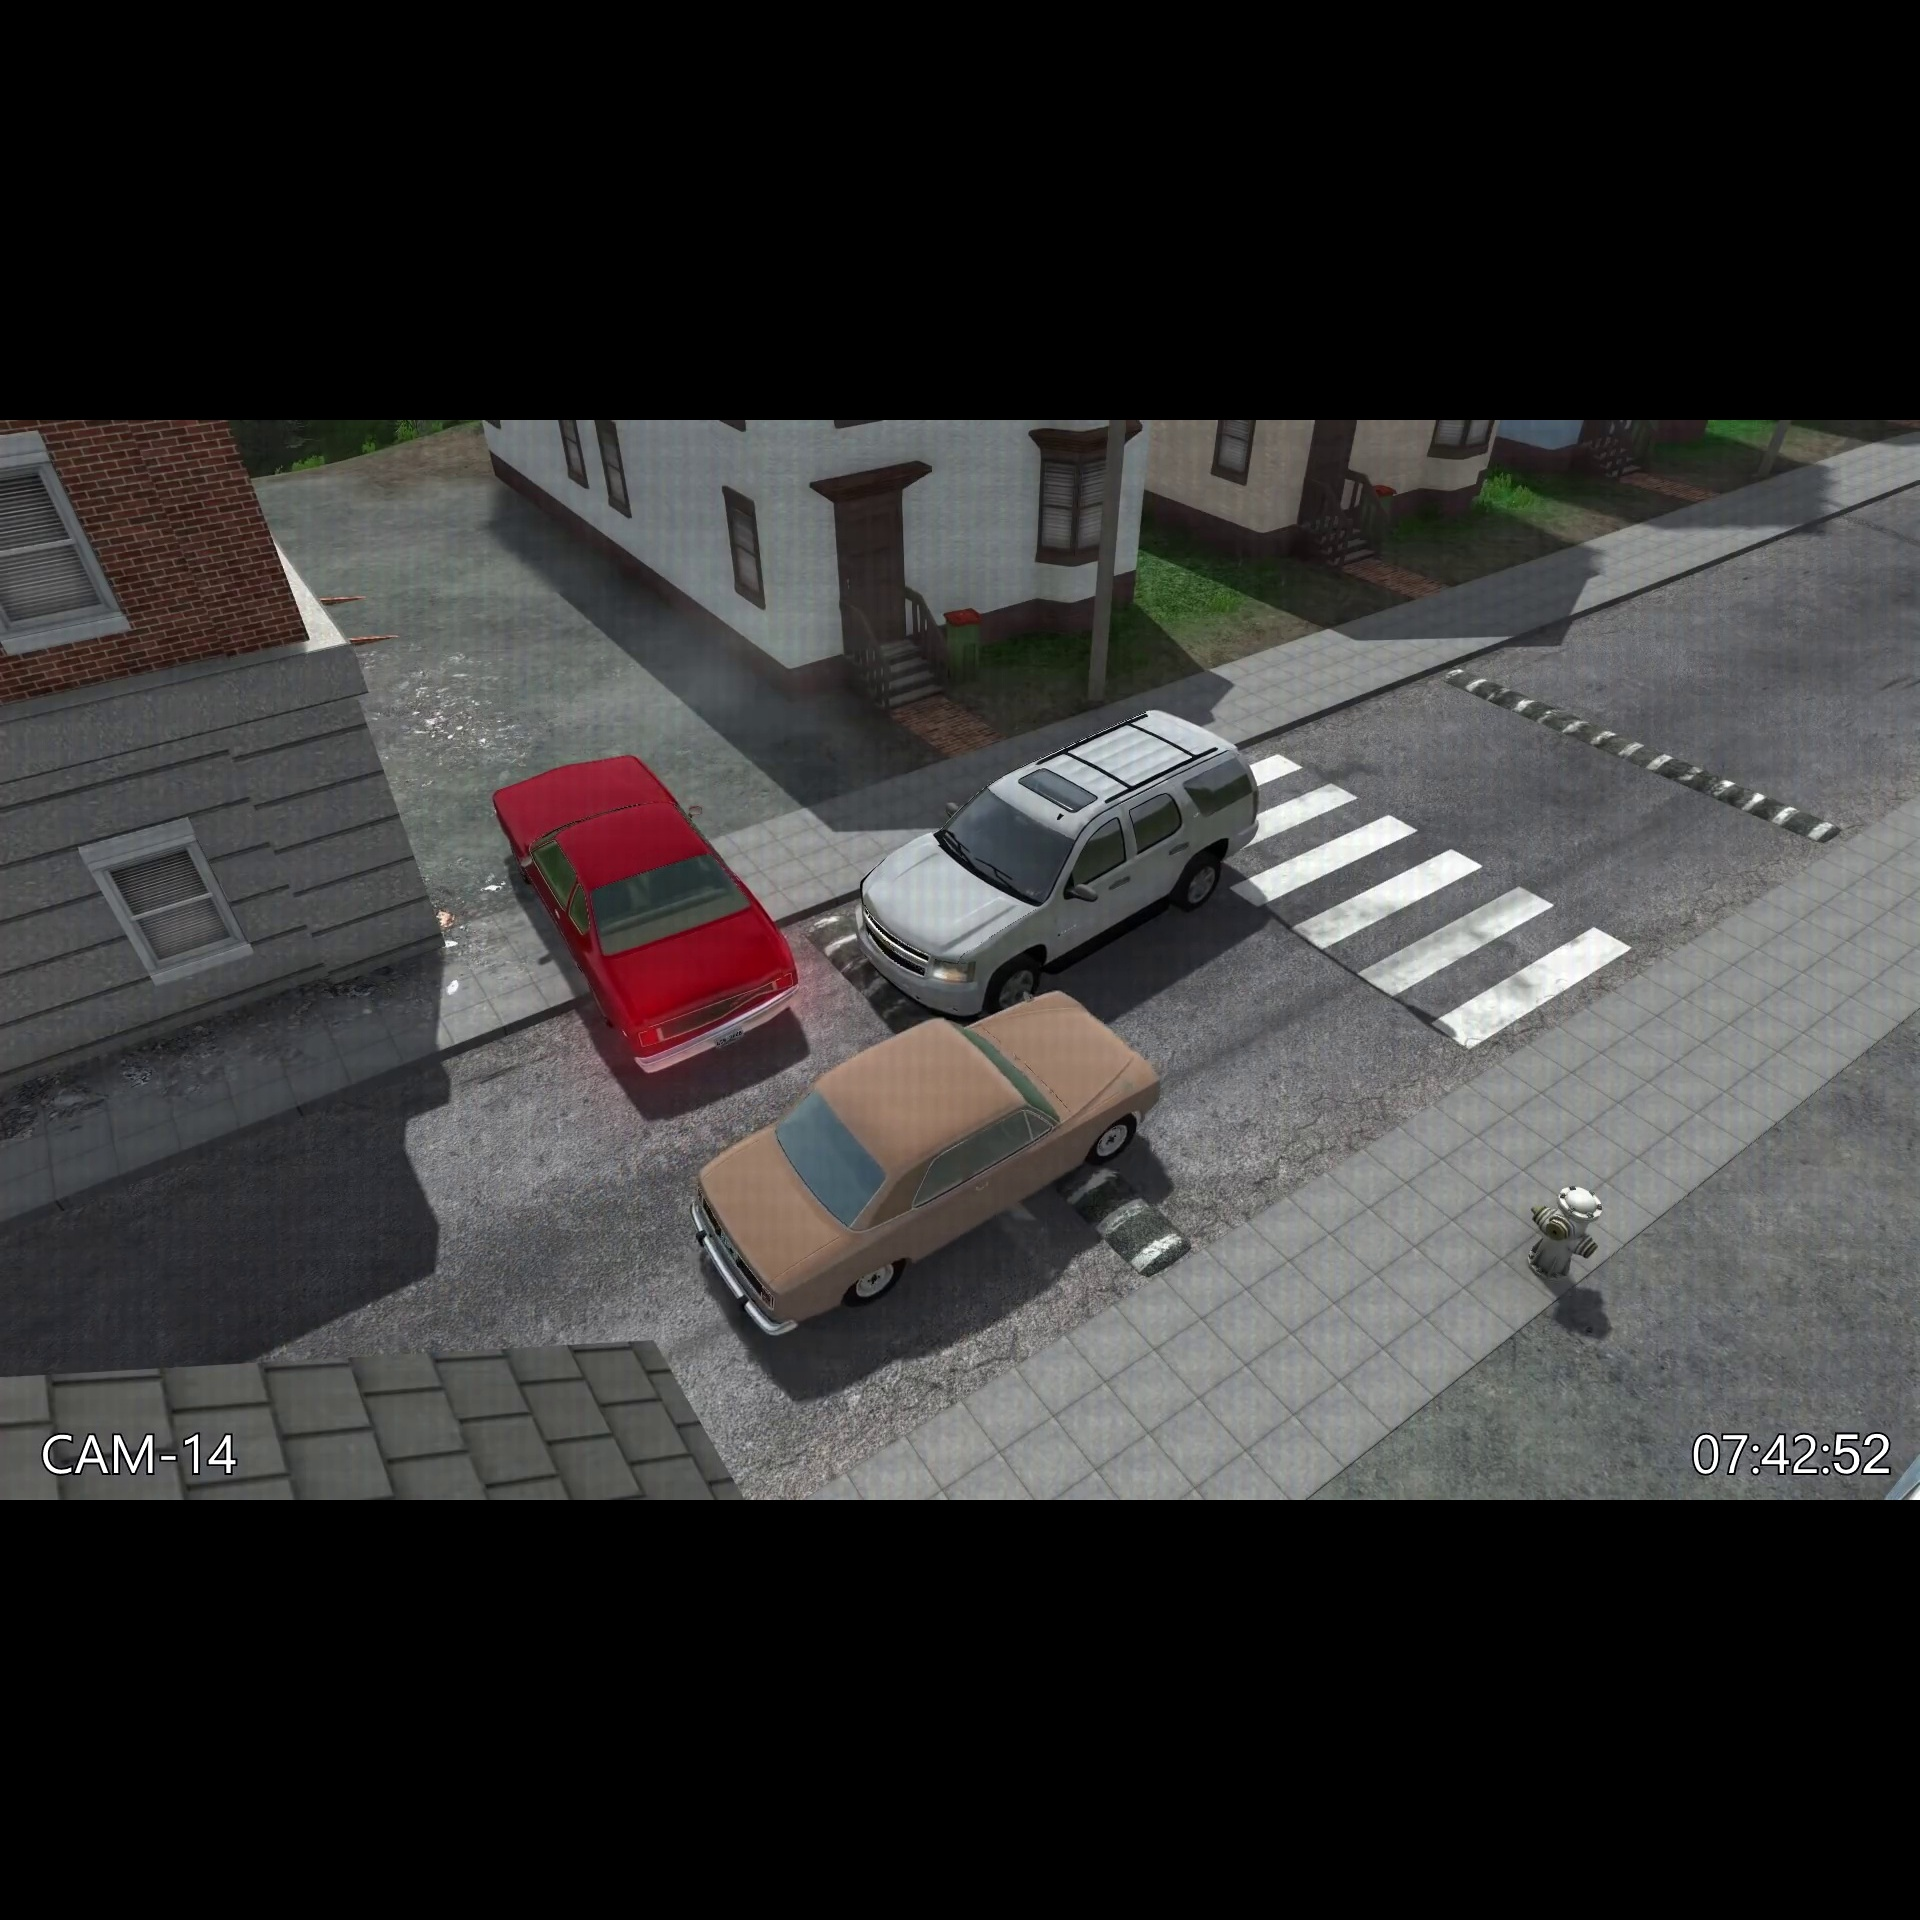vehicle: (687, 983, 1169, 1342), (847, 698, 1269, 1030), (484, 742, 811, 1083)
